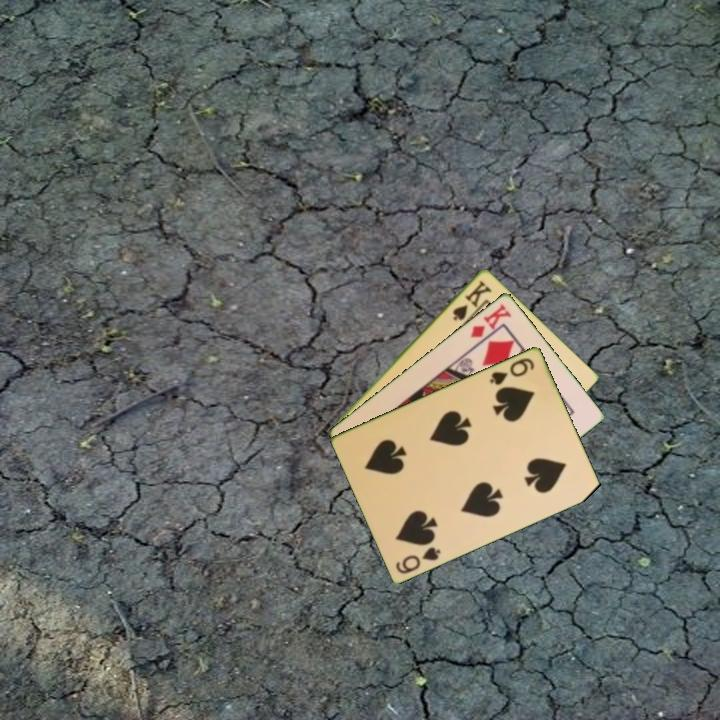6s: (486, 354, 537, 388), (392, 543, 444, 576)
Kd: (467, 300, 515, 340)
Ks: (449, 276, 495, 323)
